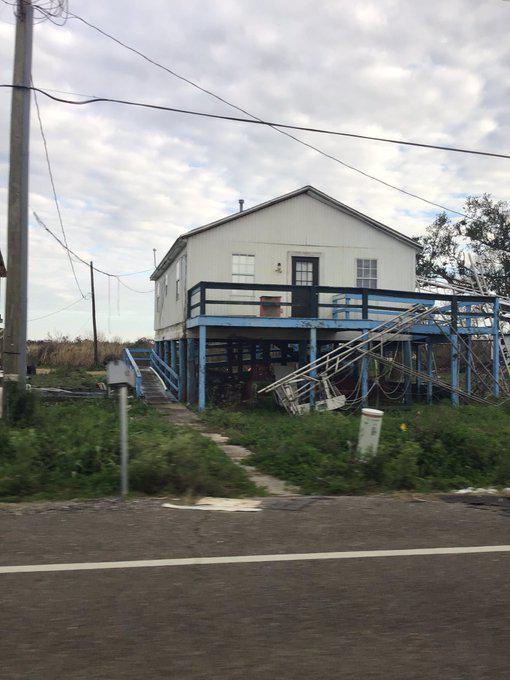affected: (128, 184, 504, 413)
